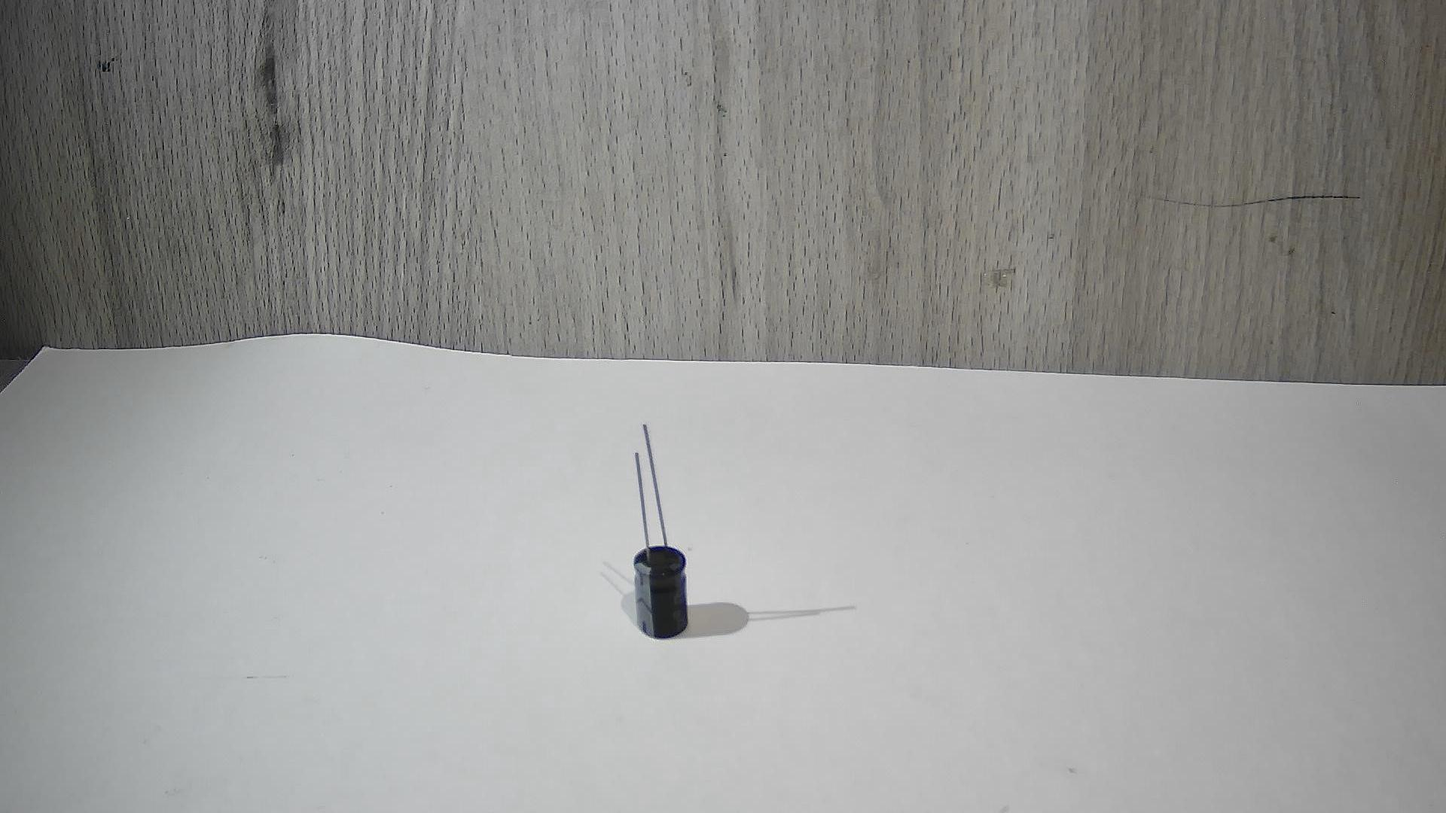Capacitor: (605, 394, 731, 667)
